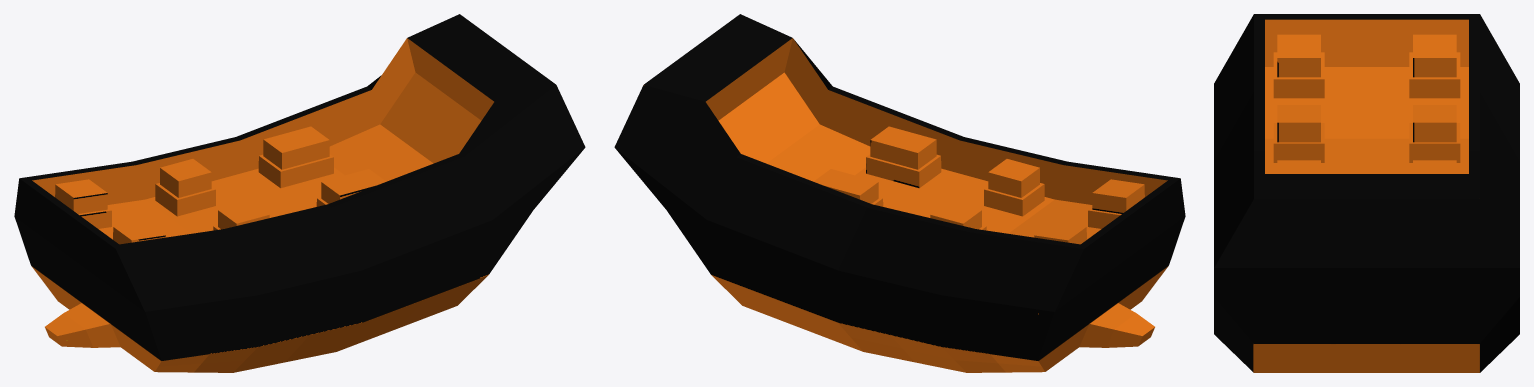
Rendered from Regular.fbx.
3 renders of one model, left to right at view 1: azimuth 30°, elevation 25°; view 2: azimuth 150°, elevation 25°; view 3: azimuth 270°, elevation 25°, orthographic. The views are drawn at different scales.
Parts seen in each view (by area): view 1: boat2; view 2: boat2; view 3: boat2.
Boxes of the visible parts, box(x1,y1,x2,y2) form: boat2: box(14, 14, 585, 372); boat2: box(614, 14, 1185, 372); boat2: box(1214, 14, 1519, 372).
Bounding box in the file's own units: 2759 × 1200 × 1331.
Materials: 1 (1 with a texture image).
